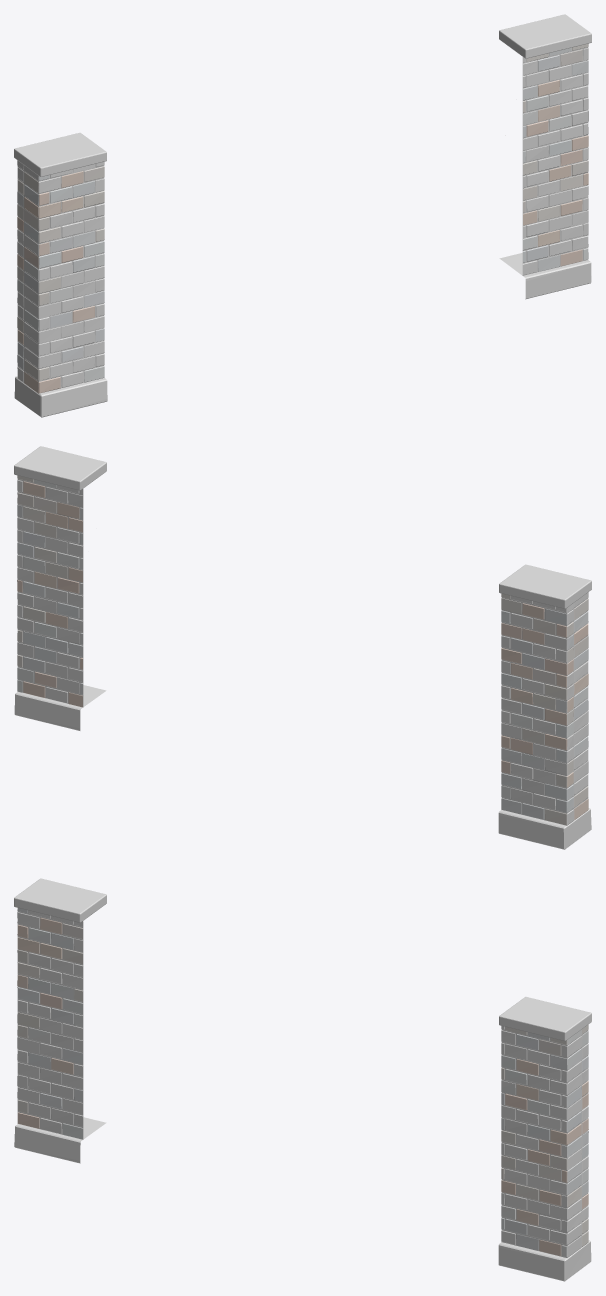
File: Guardhouse_WallReturns.glb
3 views of the same model, one above another, from view 1: azimuth 30°, elevation 25°; view 2: azimuth 150°, elevation 25°; view 3: azimuth 330°, elevation 25° (orthographic).
Parts seen in each view (by area): view 1: GuardhouseReturn_Gate_Brick, GuardhouseReturn_Pillar_Brick, GuardhouseReturn_Gate_BrickWeathered, GuardhouseReturn_Pillar_BrickWeathered, GuardhouseReturn_Gate_Mortar, GuardhouseReturn_Pillar_Mortar, GuardhouseReturn_Gate_Cap, GuardhouseReturn_Pillar_Cap, GuardhouseReturn_Gate_Concrete, GuardhouseReturn_Pillar_Concrete; view 2: GuardhouseReturn_Gate_Brick, GuardhouseReturn_Pillar_Brick, GuardhouseReturn_Pillar_BrickWeathered, GuardhouseReturn_Gate_BrickWeathered, GuardhouseReturn_Gate_Mortar, GuardhouseReturn_Pillar_Mortar, GuardhouseReturn_Gate_Cap, GuardhouseReturn_Pillar_Cap, GuardhouseReturn_Gate_Concrete, GuardhouseReturn_Pillar_Concrete; view 3: GuardhouseReturn_Pillar_Brick, GuardhouseReturn_Gate_Brick, GuardhouseReturn_Pillar_BrickWeathered, GuardhouseReturn_Gate_BrickWeathered, GuardhouseReturn_Pillar_Mortar, GuardhouseReturn_Pillar_Cap, GuardhouseReturn_Gate_Cap, GuardhouseReturn_Gate_Mortar, GuardhouseReturn_Pillar_Concrete, GuardhouseReturn_Gate_Concrete.
Boxes of the visible parts, <box> form: GuardhouseReturn_Gate_Brick: <box>17,160,104,393</box>; GuardhouseReturn_Pillar_Brick: <box>523,43,588,266</box>; GuardhouseReturn_Gate_BrickWeathered: <box>17,165,104,393</box>; GuardhouseReturn_Pillar_BrickWeathered: <box>523,89,588,275</box>; GuardhouseReturn_Gate_Mortar: <box>17,164,104,393</box>; GuardhouseReturn_Pillar_Mortar: <box>522,47,588,275</box>; GuardhouseReturn_Gate_Cap: <box>14,132,106,176</box>; GuardhouseReturn_Pillar_Cap: <box>499,14,591,58</box>; GuardhouseReturn_Gate_Concrete: <box>14,376,107,417</box>; GuardhouseReturn_Pillar_Concrete: <box>499,253,591,299</box>; GuardhouseReturn_Gate_Brick: <box>501,593,588,819</box>; GuardhouseReturn_Pillar_Brick: <box>17,475,82,707</box>; GuardhouseReturn_Pillar_BrickWeathered: <box>17,475,82,697</box>; GuardhouseReturn_Gate_BrickWeathered: <box>501,592,588,825</box>; GuardhouseReturn_Gate_Mortar: <box>501,595,588,825</box>; GuardhouseReturn_Pillar_Mortar: <box>17,479,83,707</box>; GuardhouseReturn_Gate_Cap: <box>499,564,591,608</box>; GuardhouseReturn_Pillar_Cap: <box>14,446,106,490</box>; GuardhouseReturn_Gate_Concrete: <box>498,808,591,849</box>; GuardhouseReturn_Pillar_Concrete: <box>14,685,106,730</box>; GuardhouseReturn_Pillar_Brick: <box>501,1024,588,1256</box>; GuardhouseReturn_Gate_Brick: <box>17,908,82,1139</box>; GuardhouseReturn_Pillar_BrickWeathered: <box>501,1074,588,1257</box>; GuardhouseReturn_Gate_BrickWeathered: <box>17,910,82,1134</box>; GuardhouseReturn_Pillar_Mortar: <box>501,1027,588,1257</box>; GuardhouseReturn_Pillar_Cap: <box>499,997,591,1040</box>; GuardhouseReturn_Gate_Cap: <box>14,878,106,922</box>; GuardhouseReturn_Gate_Mortar: <box>17,910,83,1139</box>; GuardhouseReturn_Pillar_Concrete: <box>498,1240,591,1281</box>; GuardhouseReturn_Gate_Concrete: <box>14,1117,106,1163</box>.
Bounding box in the file's own units: 7.33 × 3.18 × 0.6317.
